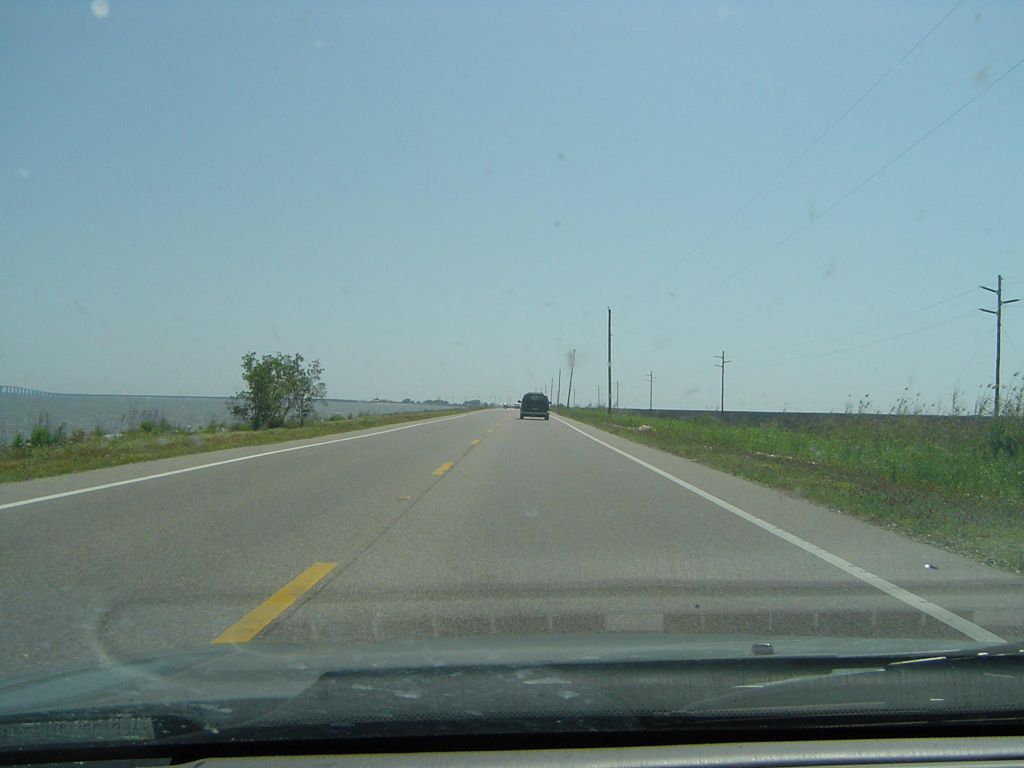car: (517, 391, 553, 422), (512, 403, 521, 409), (503, 403, 511, 409)
